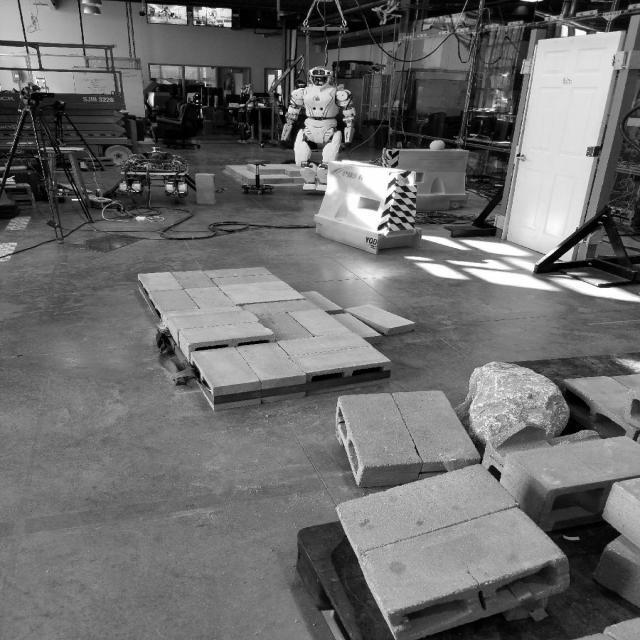door: (501, 28, 626, 268), (516, 154, 530, 163)
